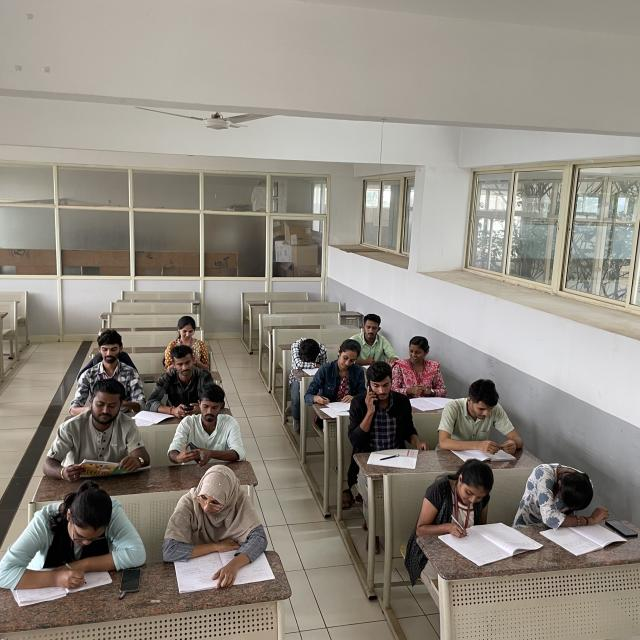Reading: (167, 468, 273, 588), (55, 378, 157, 485), (441, 376, 525, 460), (396, 328, 460, 411)
Sleeping: (520, 453, 602, 519), (287, 331, 330, 372)
Using Phone: (168, 389, 249, 472), (348, 362, 420, 447), (150, 348, 224, 421), (156, 313, 212, 368)
Writing: (5, 487, 120, 603), (422, 461, 522, 555), (310, 336, 366, 414)
